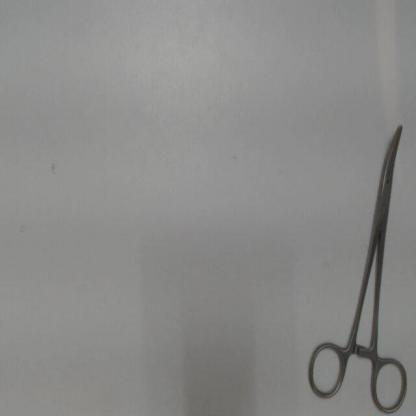Crile Artery Forceps: (304, 116, 410, 415)
